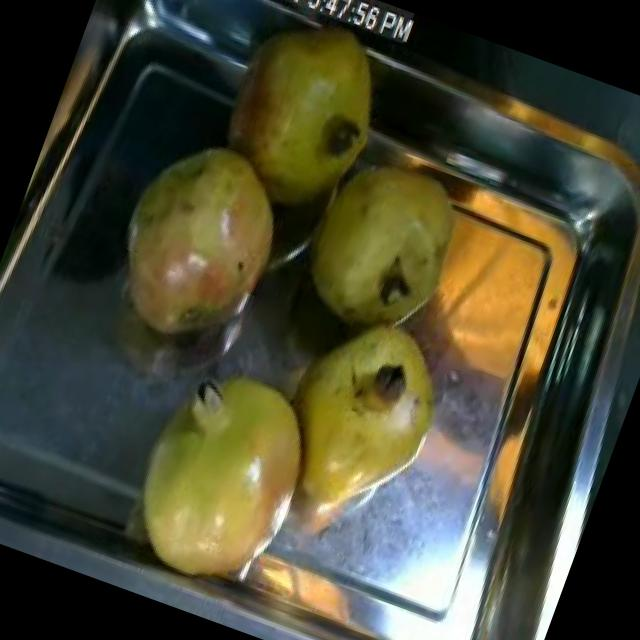fruit: (95, 336, 345, 620), (87, 110, 311, 372), (255, 284, 471, 518), (280, 131, 489, 360), (197, 0, 408, 225)
